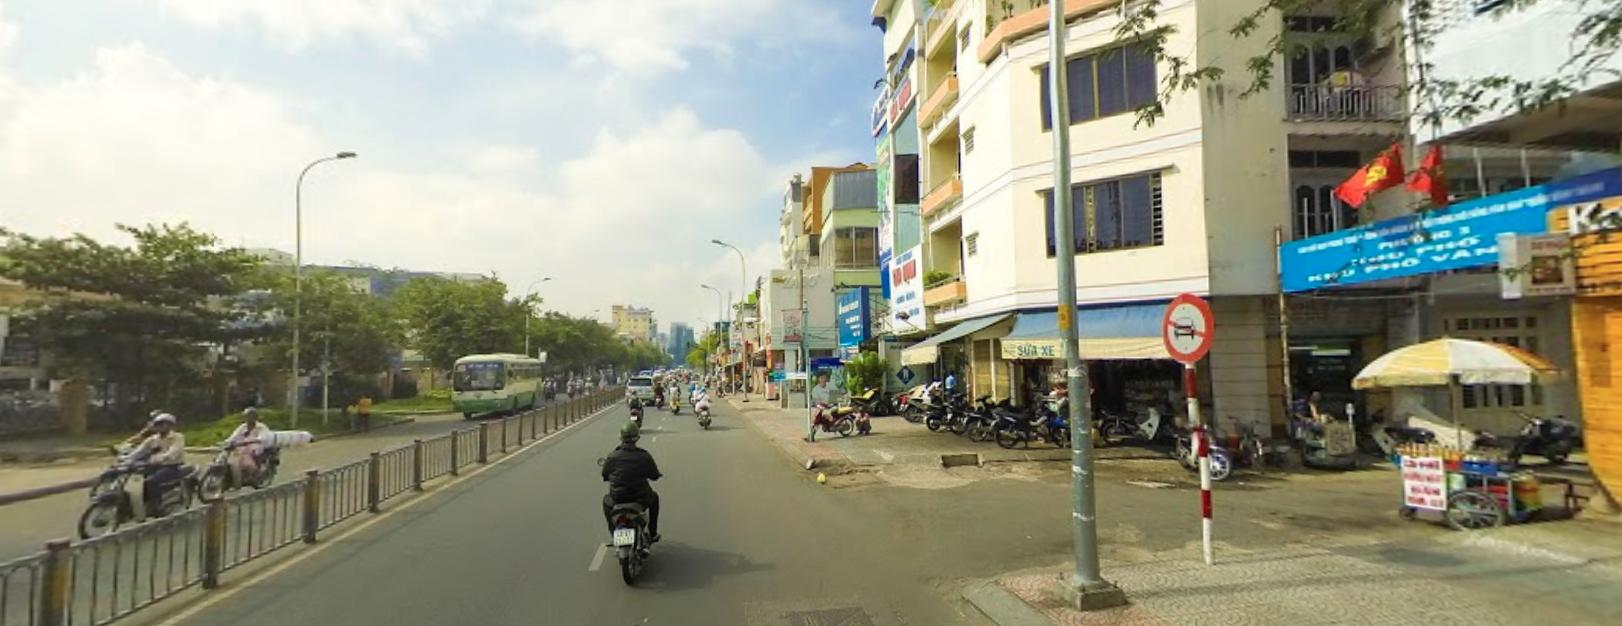Cam con lai: (1160, 288, 1214, 361)
